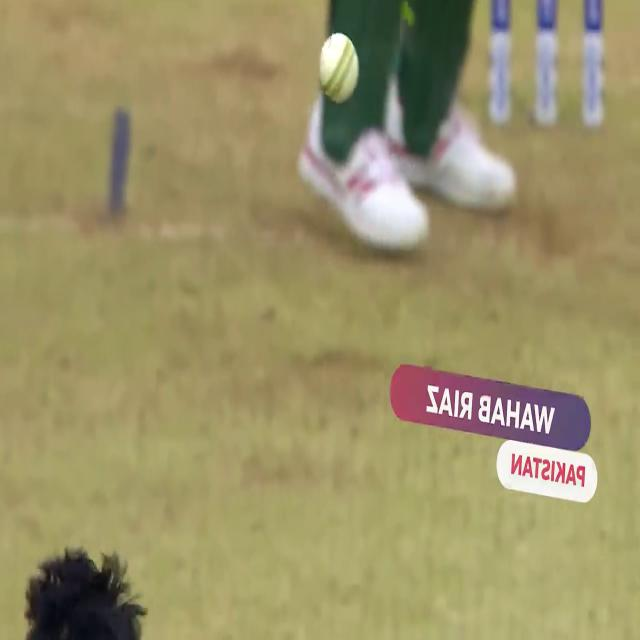ball: (317, 31, 361, 107)
